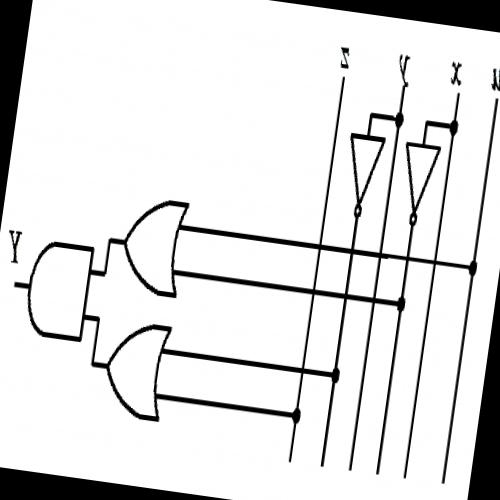and: (12, 213, 105, 366)
not: (334, 122, 393, 234), (391, 132, 447, 236)
or: (111, 182, 200, 310), (93, 308, 182, 430)
